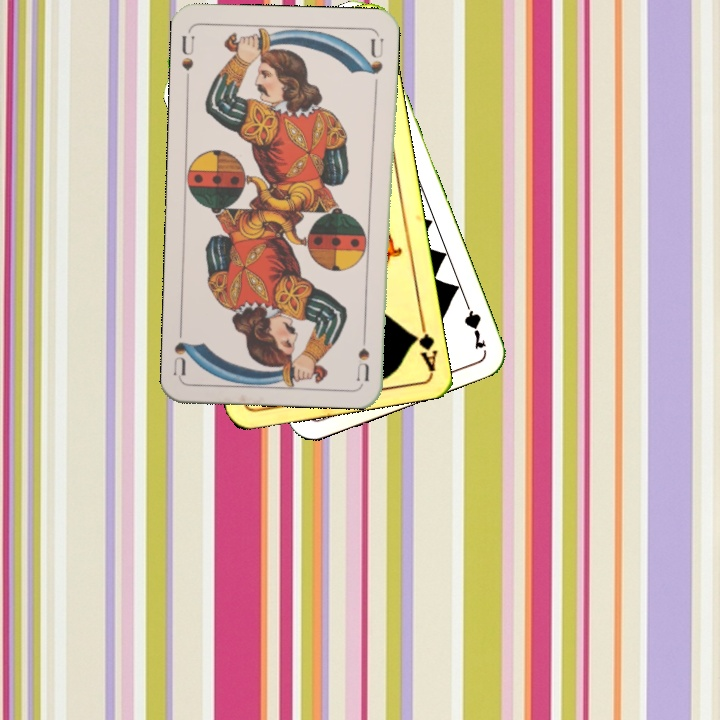G7: (459, 294, 489, 352)
GA: (408, 313, 439, 372)
SU: (354, 323, 372, 382), (177, 32, 197, 73)
